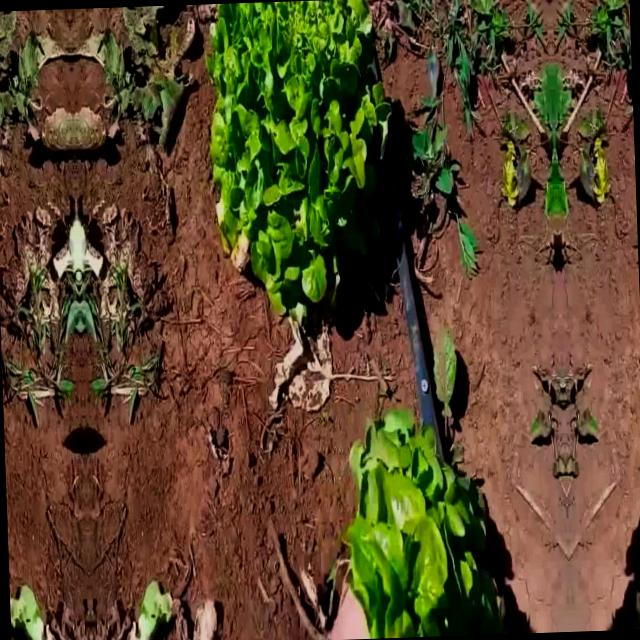healthy: (201, 0, 408, 320), (341, 394, 512, 640), (623, 389, 640, 629)
